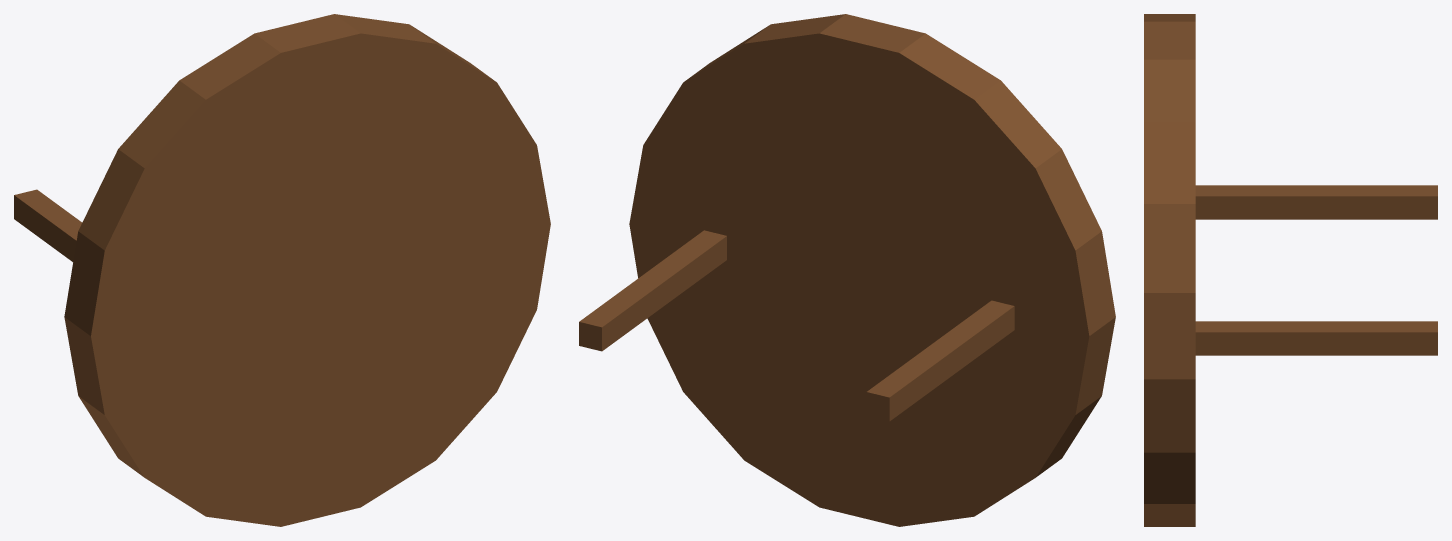
The model's file is SM_LorienTreePlatform.obj.
The picture shows the model from 3 angles, left to right: view 1: azimuth 30°, elevation 25°; view 2: azimuth 150°, elevation 25°; view 3: azimuth 270°, elevation 25°; orthographic projection. The views are drawn at different scales.
Parts seen in each view (by area): view 1: SM_LorienTreePlatform; view 2: SM_LorienTreePlatform; view 3: SM_LorienTreePlatform.
Boxes of the visible parts, left/top/right/bottom form: SM_LorienTreePlatform: left=14, top=14, right=550, bottom=526; SM_LorienTreePlatform: left=579, top=14, right=1115, bottom=526; SM_LorienTreePlatform: left=1144, top=14, right=1437, bottom=526.
Bounding box in the file's own units: 240 × 236 × 137.
